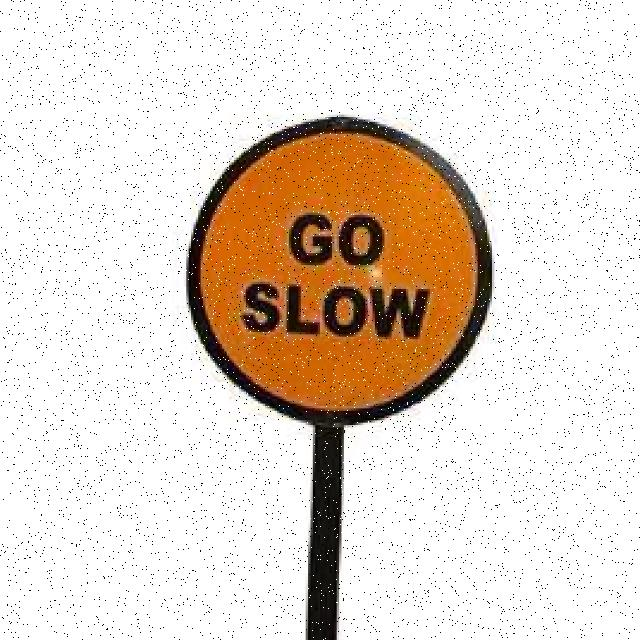go_slow: (184, 120, 498, 429)
